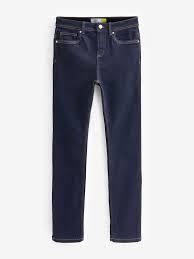jeans: (50, 12, 145, 245)
